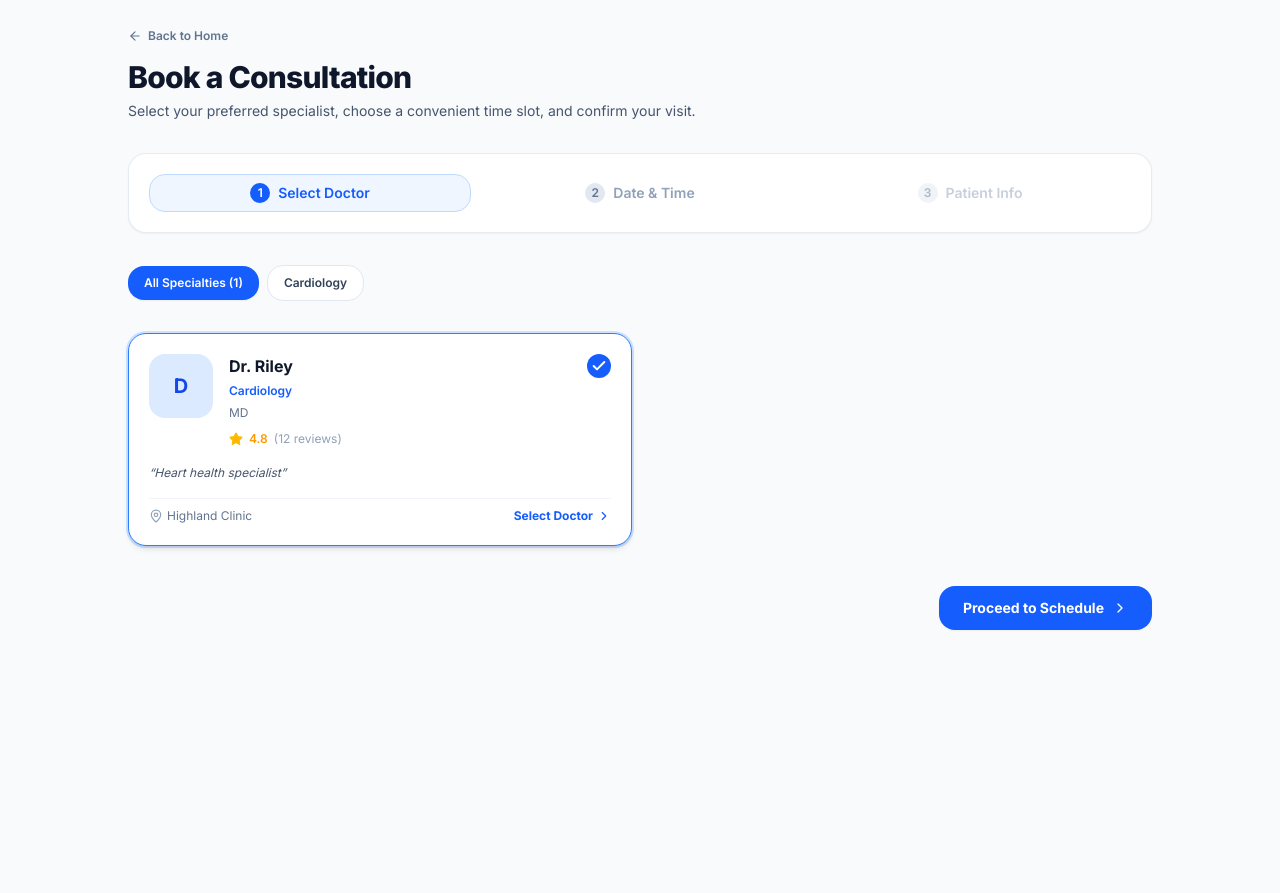
Test: client page flows › completes guest booking from doctor selection through inline confirmation
Click the button "Proceed to Schedule".
click(1045, 608)  # box [939,586,1152,630]
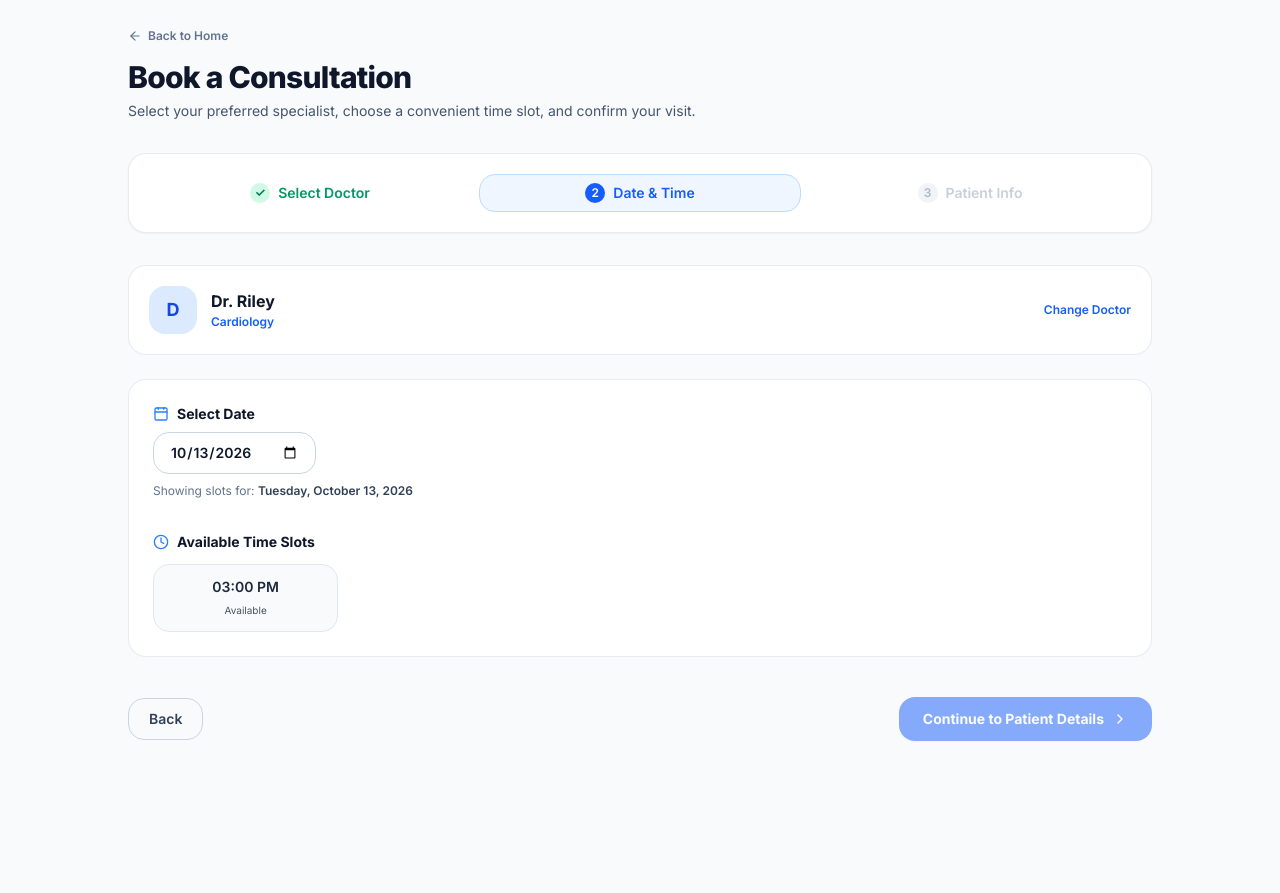
Click the button "03:00 PM Available".
click(246, 598)  # box [153,564,338,632]
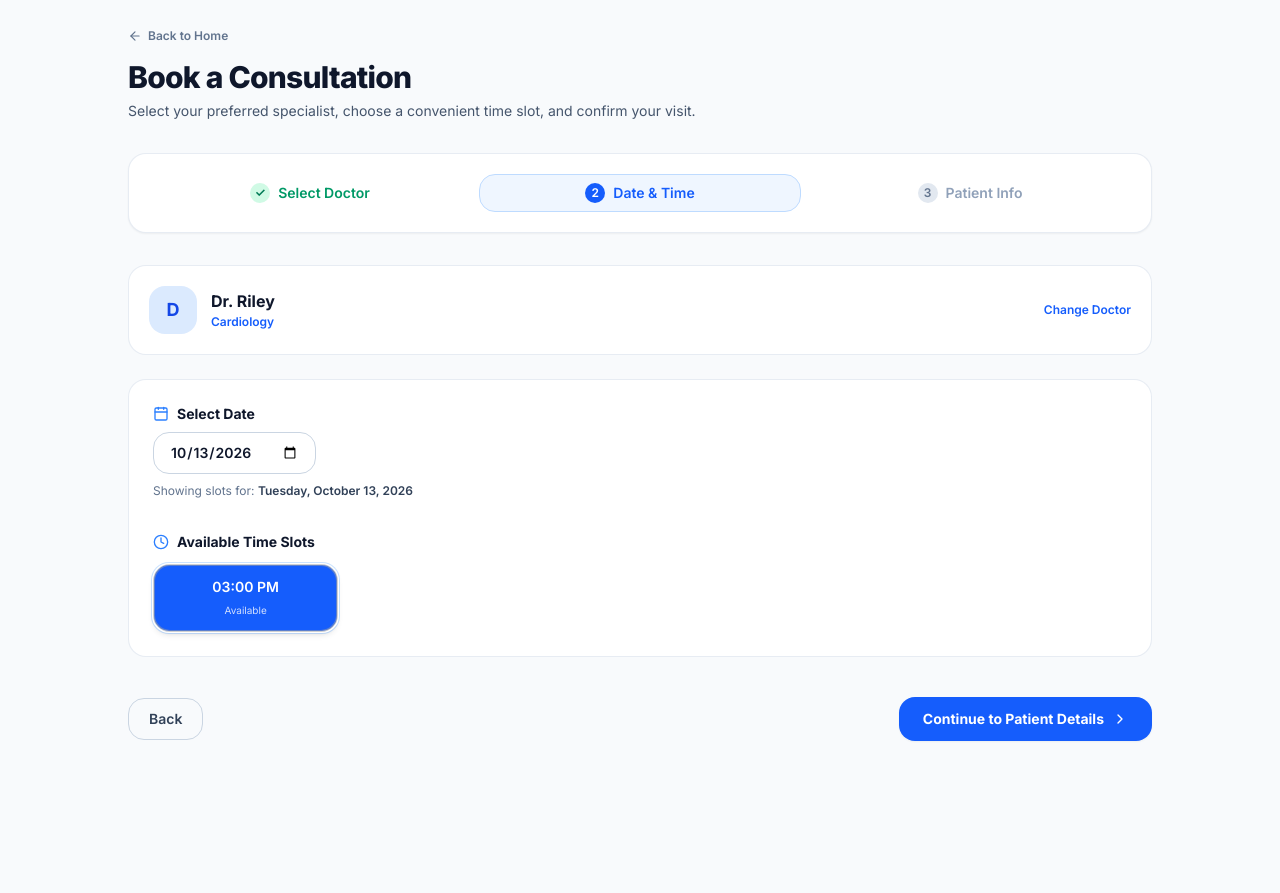
Click the button "Continue to Patient Details".
click(1025, 719)  # box [899,697,1152,741]
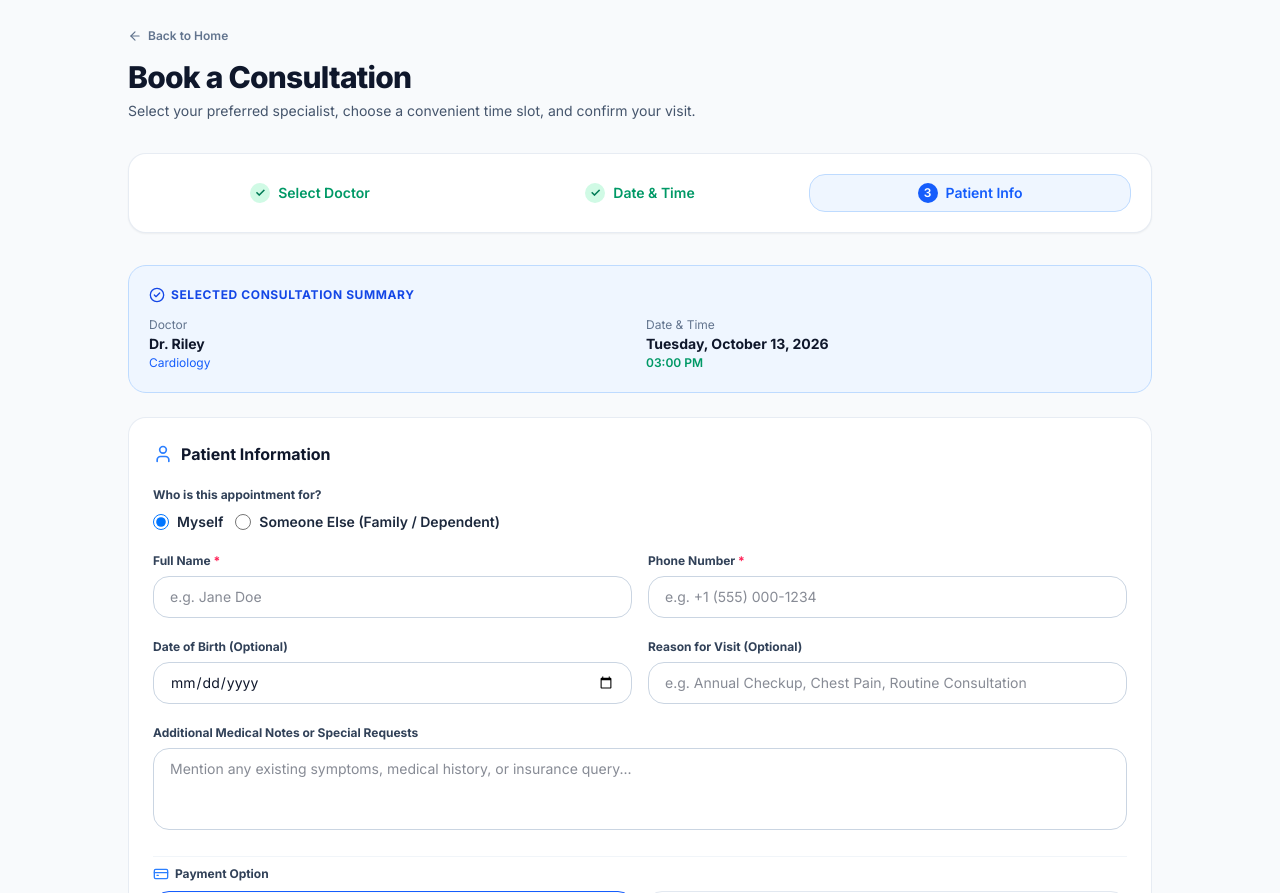
Type "Jamie Guest" into the field with placeholder "e.g. Jane Doe".
click(392, 597); type("Jamie Guest")  # box [153,576,632,618]
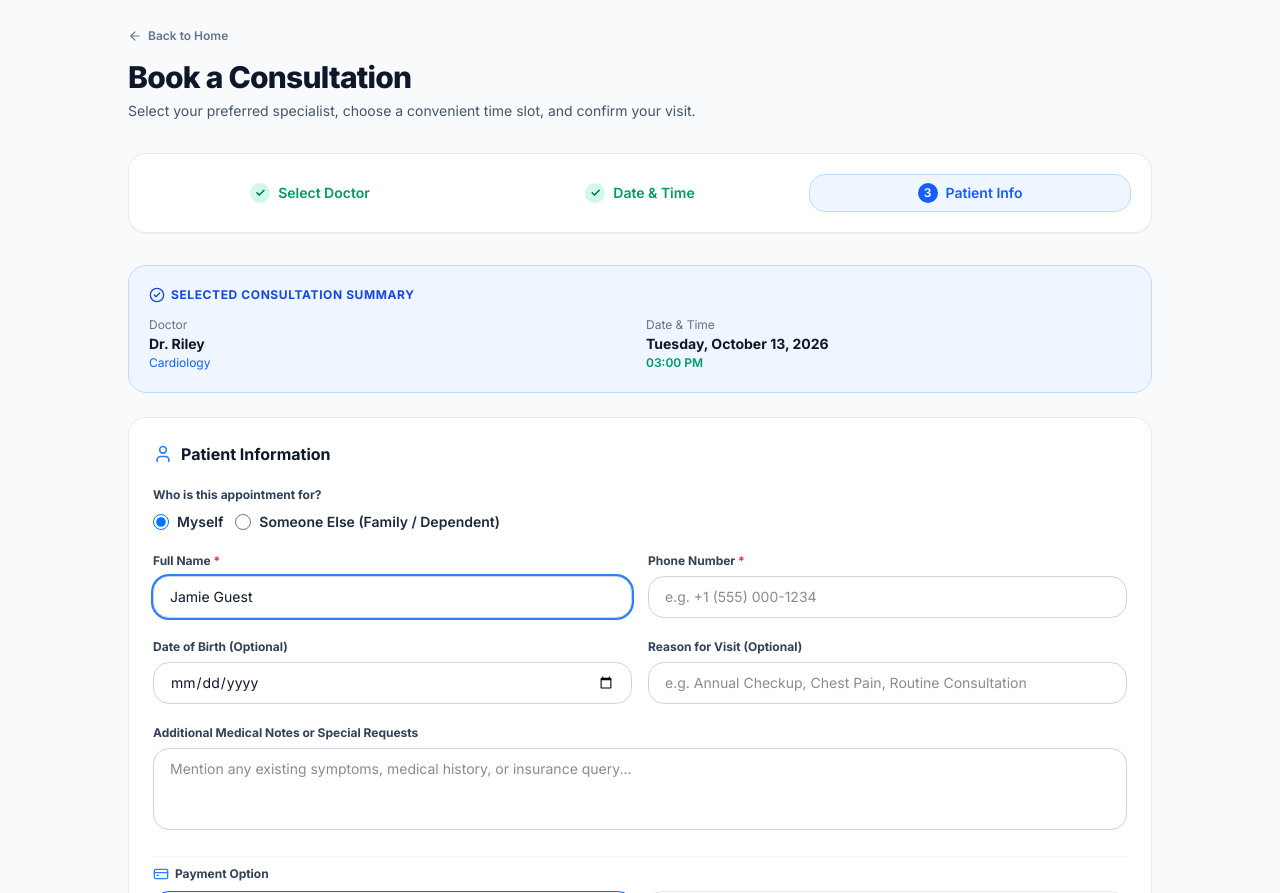
Type "555-0100" into the field with placeholder "e.g. +1 (555) 000-1234".
click(888, 597); type("555-0100")  # box [648,576,1127,618]
(page scrolled)
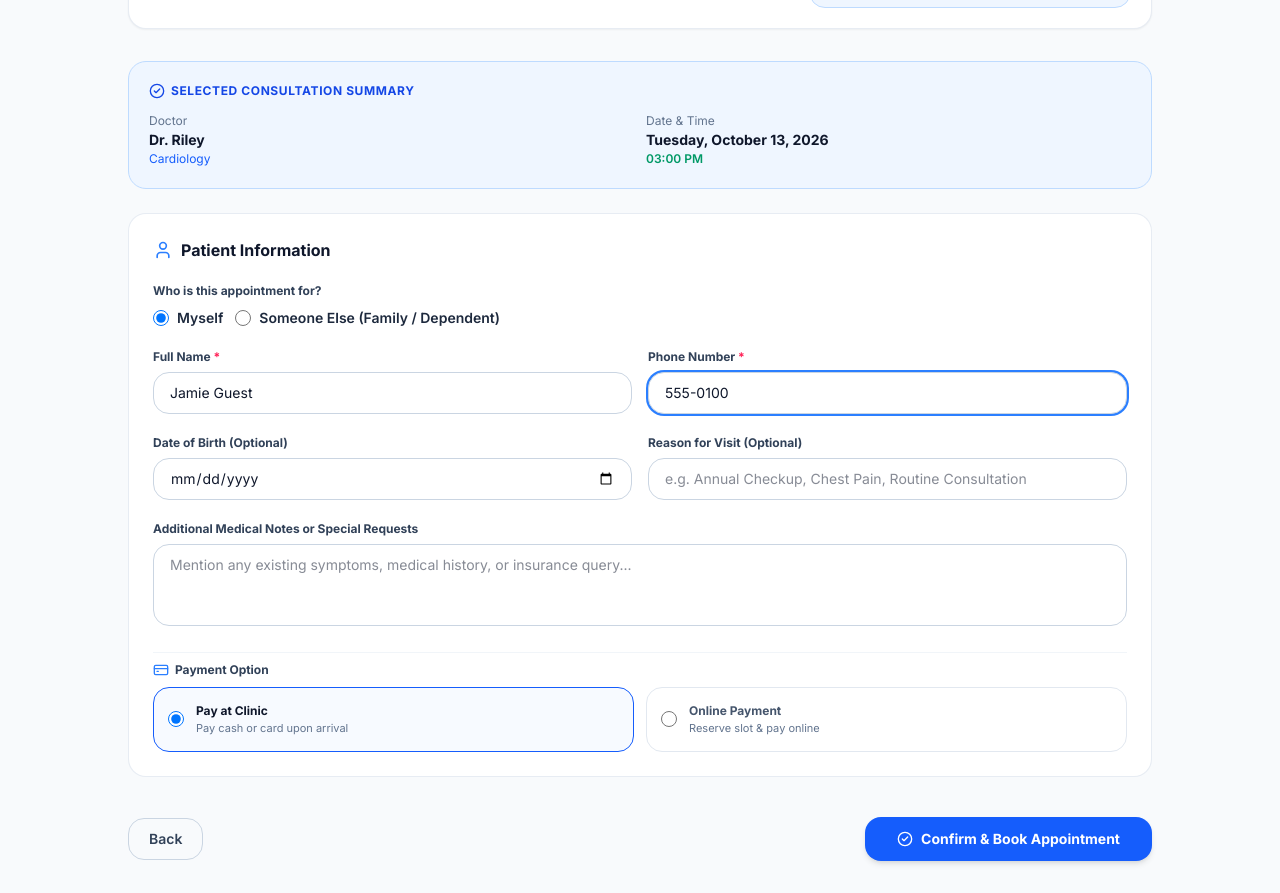
Click the button "Confirm & Book Appointment".
click(1009, 838)  # box [865,816,1152,860]
(page scrolled)
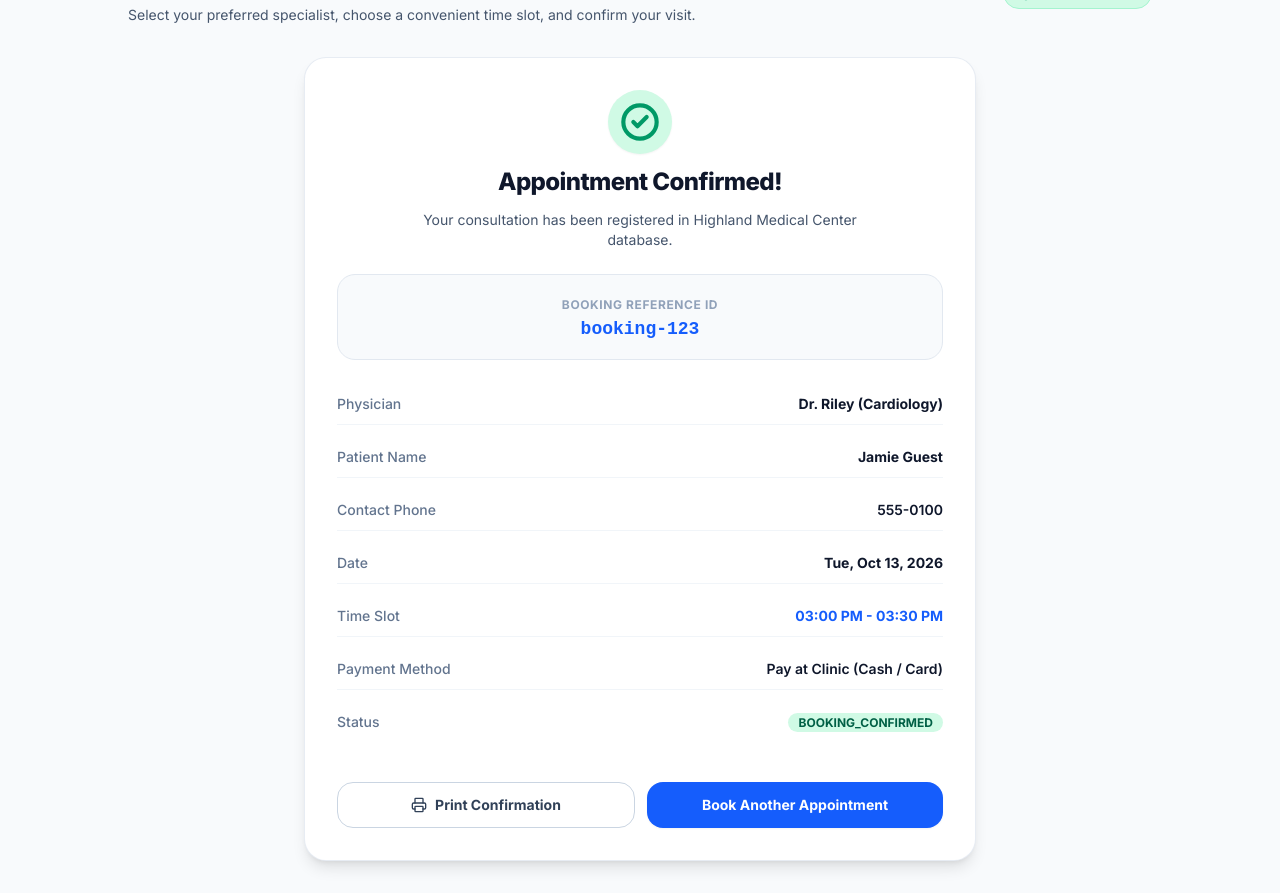
Expected: the heading "Appointment Confirmed!" is shown, [498,167,782,196]
Expected: the text "booking-123" is shown, [581,319,699,339]
